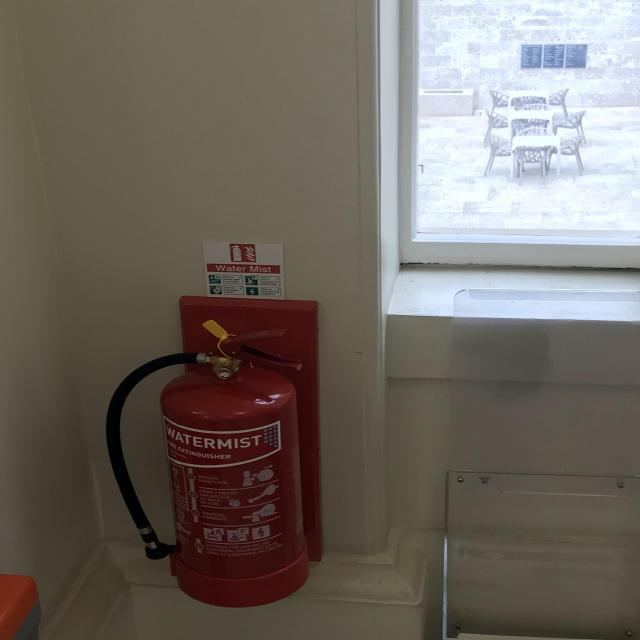fire_extinguisher: (98, 324, 314, 607)
